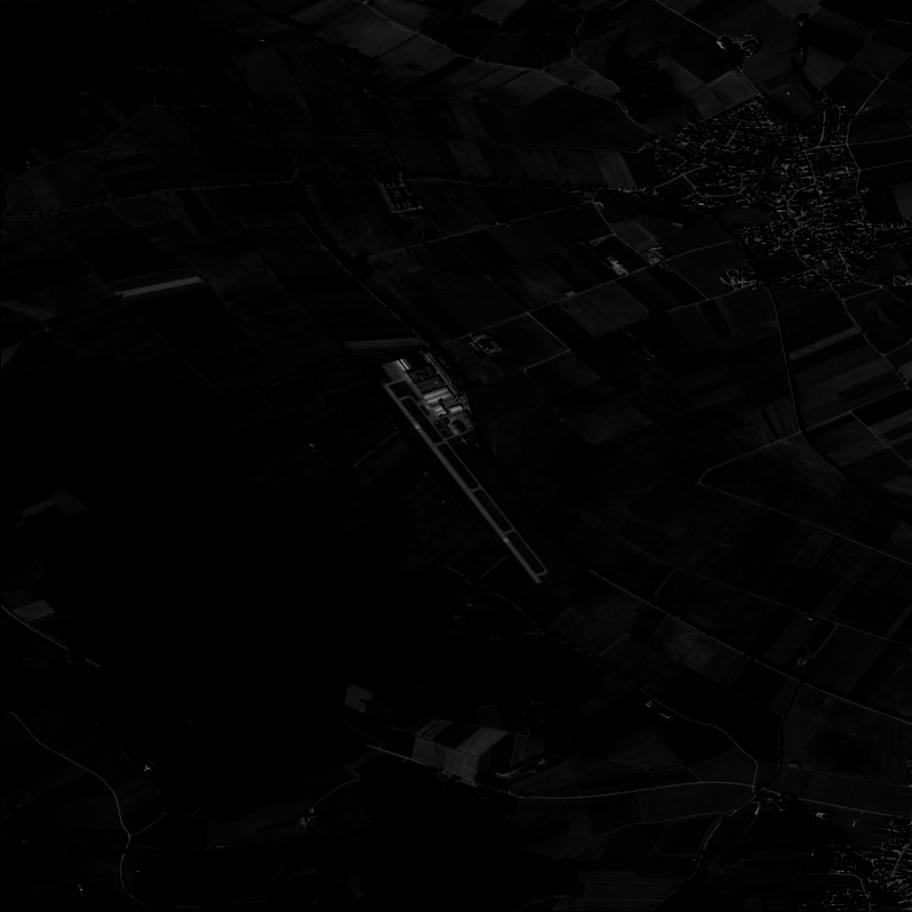plane: (140, 761, 158, 777)
